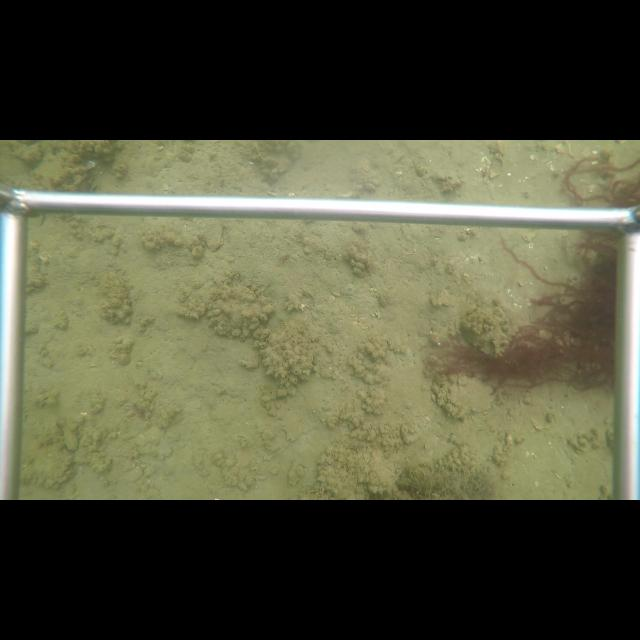Oyster-Closed: (435, 376, 497, 416)
